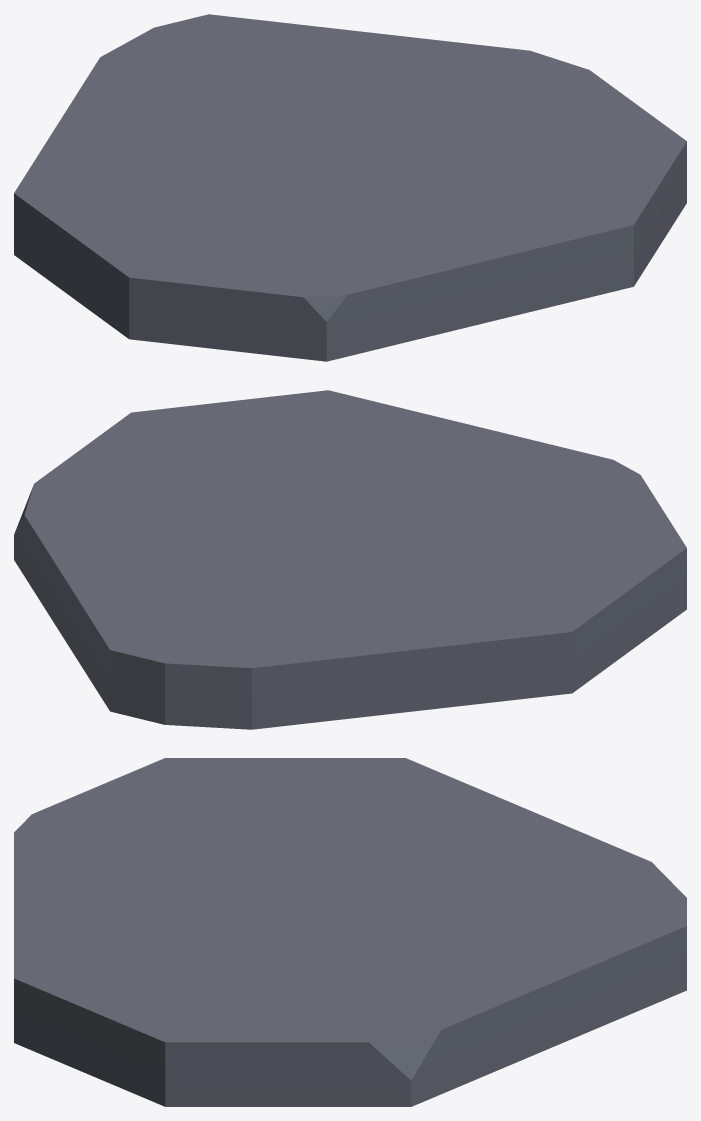
The model's file is Tile_04.fbx.
3 renders of one model, top to bottom at view 1: azimuth 30°, elevation 25°; view 2: azimuth 150°, elevation 25°; view 3: azimuth 270°, elevation 25°, orthographic. The views are drawn at different scales.
Visible parts, largest first — view 1: Tile_04; view 2: Tile_04; view 3: Tile_04.
Part boxes in pixels (x1,y1,x2,y2): Tile_04: (14, 14, 686, 361); Tile_04: (14, 390, 686, 729); Tile_04: (14, 758, 686, 1106).
Size of the model in its own units: 0.4878 by 0.0516 by 0.4878.
